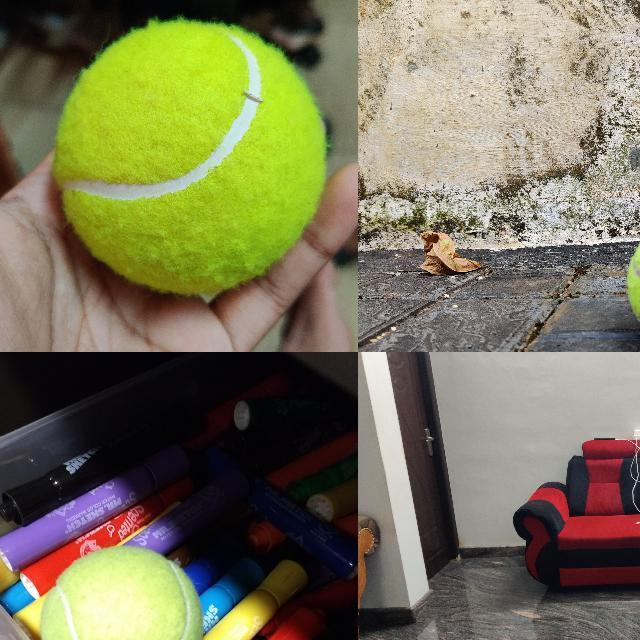tennis-ball: (54, 22, 326, 294), (41, 544, 204, 639)
